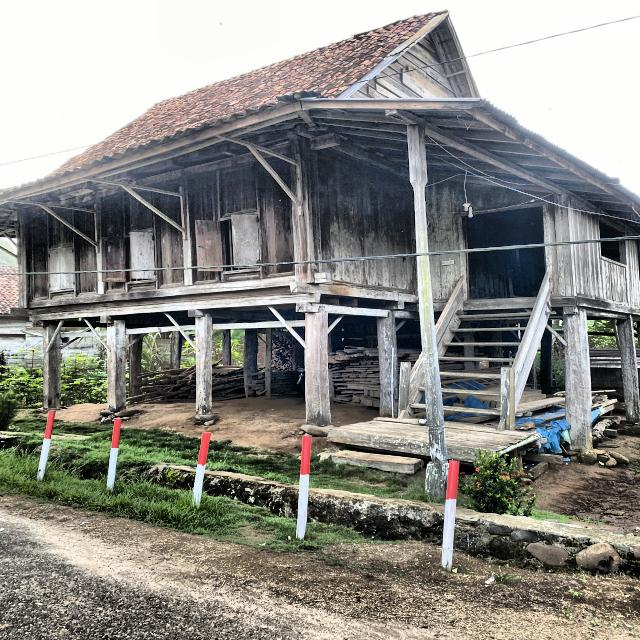column: (408, 124, 448, 464), (564, 309, 592, 452), (305, 313, 331, 426), (617, 319, 640, 423), (376, 313, 397, 417), (107, 320, 126, 412), (196, 317, 212, 415), (43, 324, 61, 409), (244, 328, 259, 398), (128, 333, 143, 402), (541, 320, 552, 392), (171, 331, 182, 370), (265, 328, 271, 396), (222, 329, 231, 366)
door: (463, 206, 548, 300)
roof: (0, 9, 639, 238)
stair: (398, 270, 552, 430)
wall: (17, 141, 639, 308)
window: (195, 212, 262, 274), (102, 232, 157, 285), (599, 222, 627, 268), (48, 247, 74, 291)
